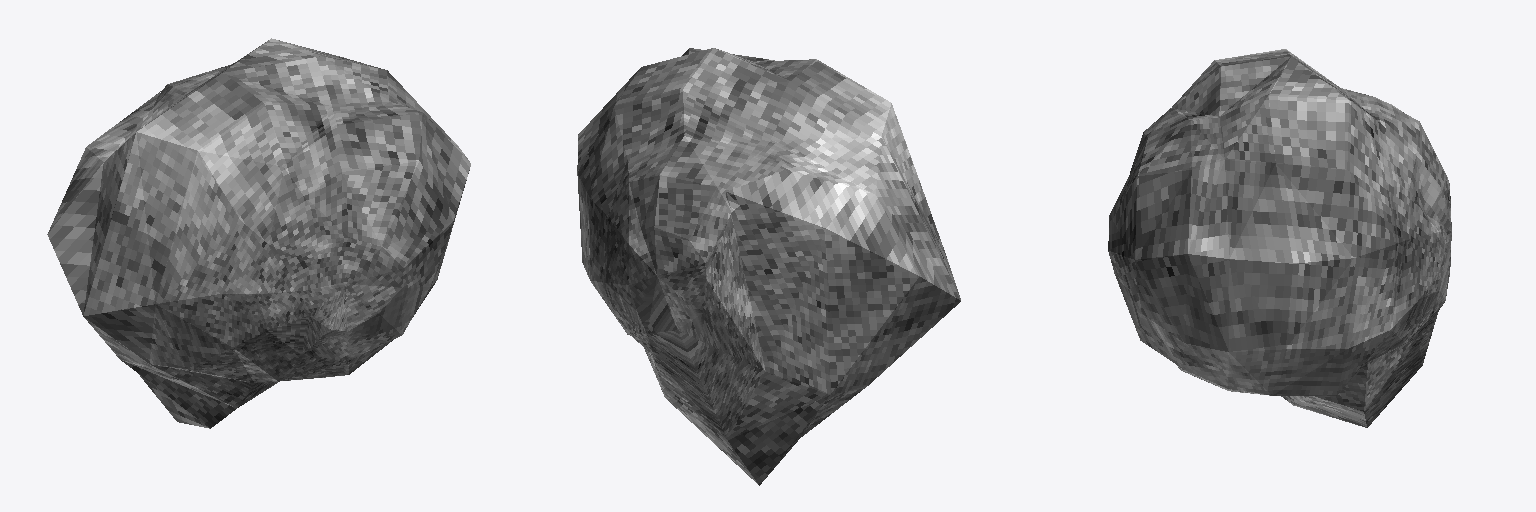
3 views of the same model, side by side, from view 1: azimuth 30°, elevation 25°; view 2: azimuth 150°, elevation 25°; view 3: azimuth 270°, elevation 25° (orthographic).
Visible parts, largest first — view 1: Vertex_Object; view 2: Vertex_Object; view 3: Vertex_Object.
Boxes of the visible parts, x1=… form: Vertex_Object: x1=47, y1=38, x2=470, y2=428; Vertex_Object: x1=577, y1=48, x2=960, y2=485; Vertex_Object: x1=1108, y1=49, x2=1451, y2=427.
Size of the model in its own units: 114 by 113 by 92.99.
Materials: 1 (1 with a texture image).